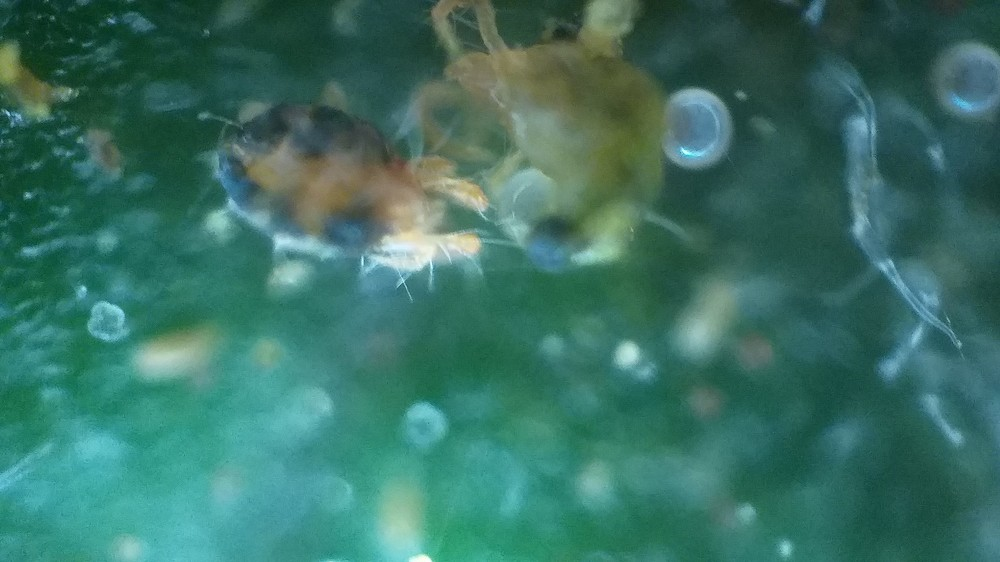Aracnido Rojo: (414, 1, 685, 277), (185, 90, 499, 309)
